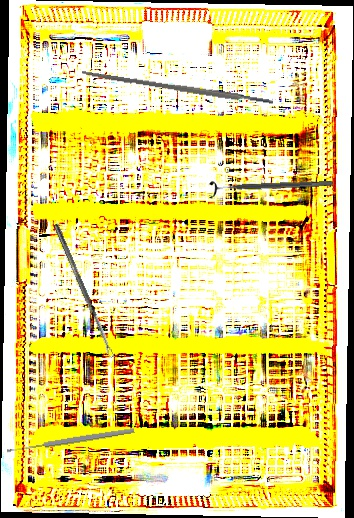Fixation Ring: (208, 173, 334, 200)
Scalpel Handle: (81, 68, 274, 108)
Surgical Spoon: (52, 223, 115, 359), (6, 426, 135, 455)
